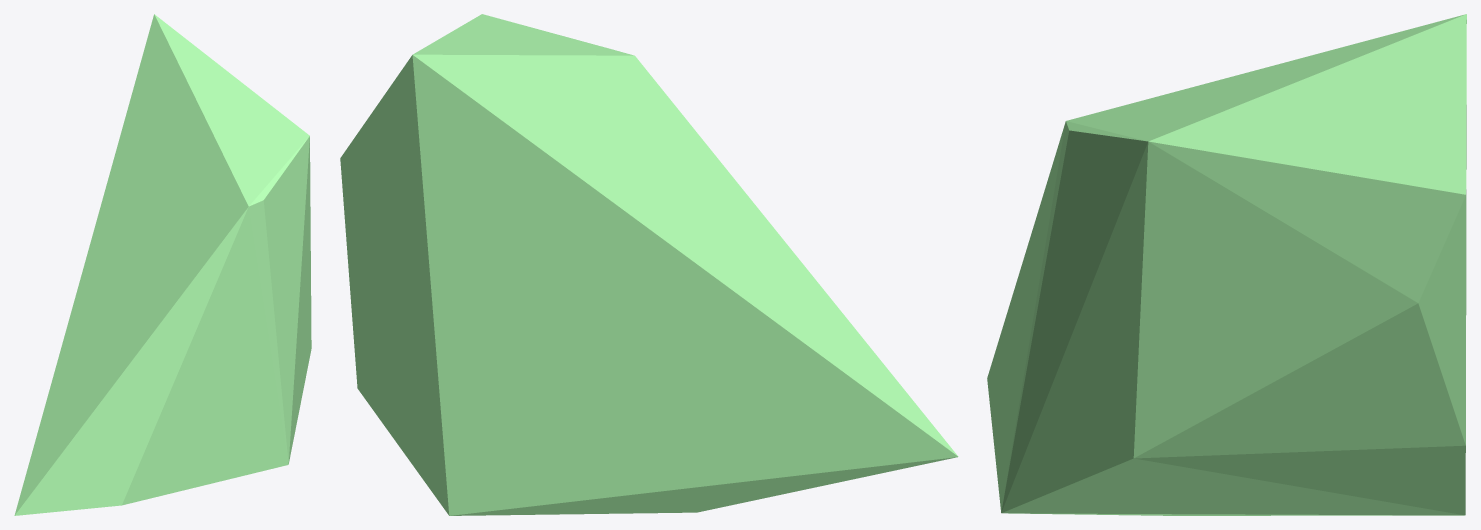
The model's file is linkhou_LR4_R560_link6_respondable_coll_27.dae.
3 views of the same model, side by side, from view 1: azimuth 30°, elevation 25°; view 2: azimuth 150°, elevation 25°; view 3: azimuth 270°, elevation 25° (orthographic). The views are drawn at different scales.
Visible parts, largest first — view 1: Node_00000209DB3AD090; view 2: Node_00000209DB3AD090; view 3: Node_00000209DB3AD090.
Part boxes in pixels (bbox=[...]): Node_00000209DB3AD090: bbox=[14, 14, 311, 515]; Node_00000209DB3AD090: bbox=[340, 14, 958, 515]; Node_00000209DB3AD090: bbox=[987, 14, 1466, 515].
Size of the model in its own units: 0.0475 by 0.0524 by 0.0385.
